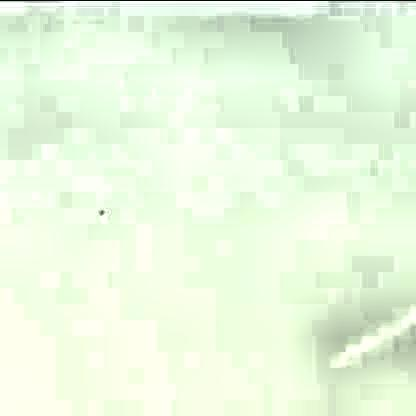golfball: (95, 206, 102, 213)
